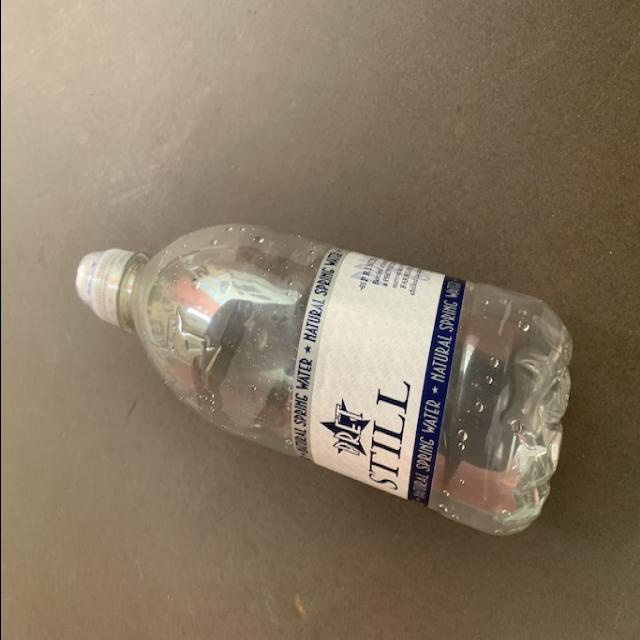litter: (75, 219, 585, 549)
